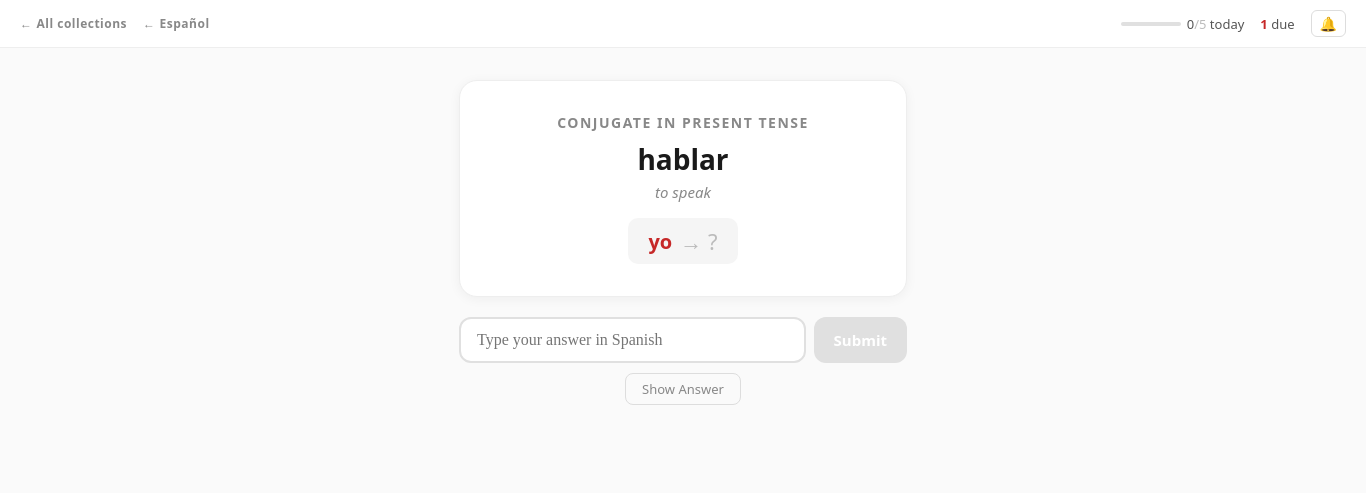
Test: Practice surface › shows correct feedback and only a Continue button (no rating buttons) in typed-correct path
Expected: the text "hablar" is shown, top-left (637, 140), bottom-right (729, 178)
Type "hablo" into the field labelled "Type your answer in Spanish". click: (632, 340)
box: top-left (459, 317), bottom-right (806, 363)
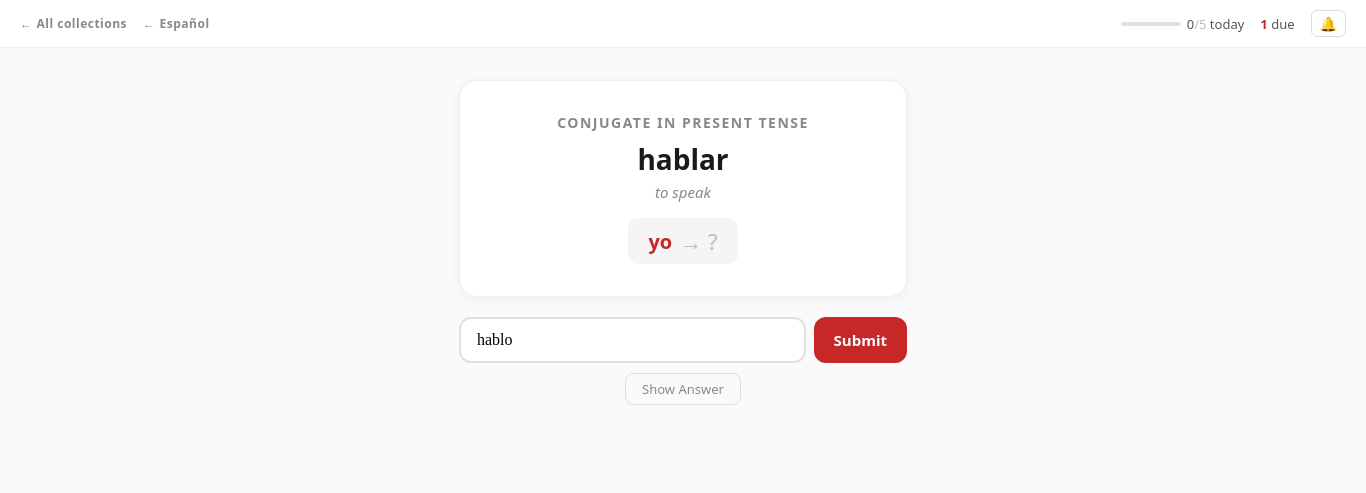
Click the button with aria-label "submit answer". click: (860, 340)
box: top-left (814, 317), bottom-right (907, 363)
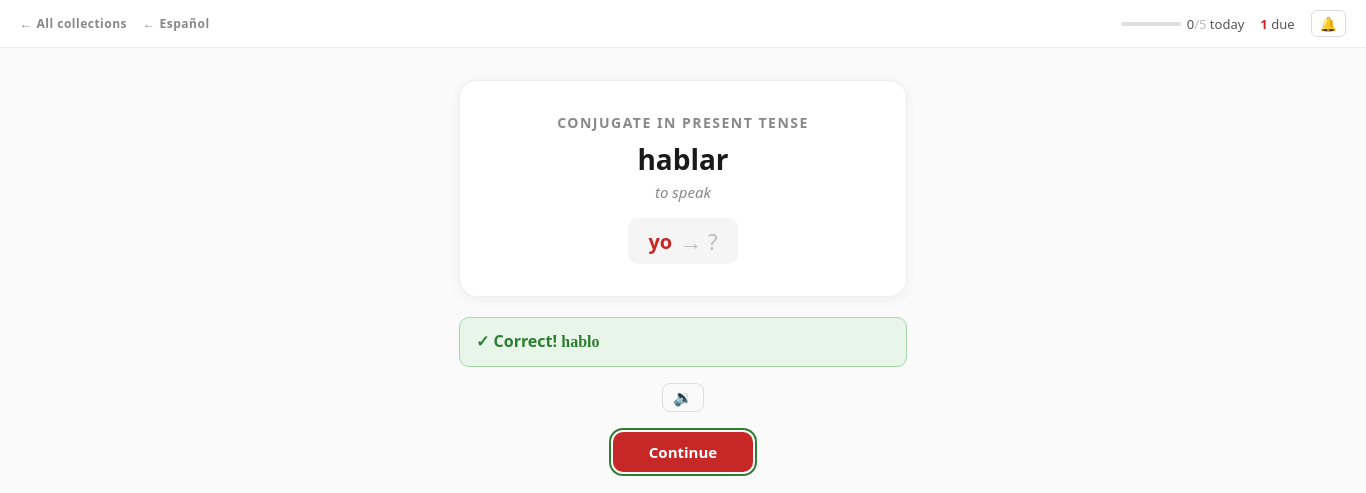
Expected: the element with test id "answer-feedback" is shown, top-left (459, 317), bottom-right (907, 367)
Expected: the element with test id "answer-feedback" shows "Correct", top-left (489, 330), bottom-right (557, 352)
Expected: the button "Continue" is shown, top-left (613, 432), bottom-right (753, 472)
